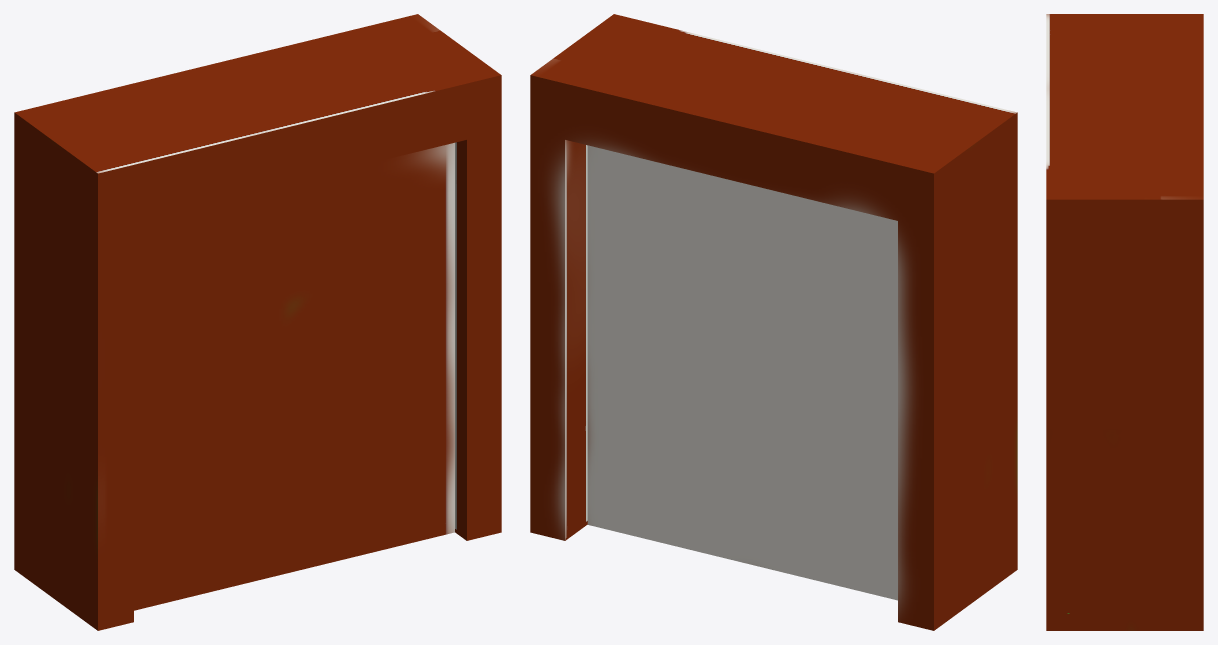
Rendered from goal.obj.
The picture shows the model from 3 angles, left to right: view 1: azimuth 30°, elevation 25°; view 2: azimuth 150°, elevation 25°; view 3: azimuth 270°, elevation 25°; orthographic projection. The views are drawn at different scales.
Parts seen in each view (by area): view 1: 立方体.001; view 2: 立方体.001; view 3: 立方体.001.
Boxes of the visible parts, x1,y1,x2,y2 form: 立方体.001: [14, 14, 501, 630]; 立方体.001: [530, 14, 1017, 630]; 立方体.001: [1046, 14, 1203, 630].
Bounding box in the file's own units: 1.89 × 2.04 × 0.676.
Materials: 1 (1 with a texture image).
